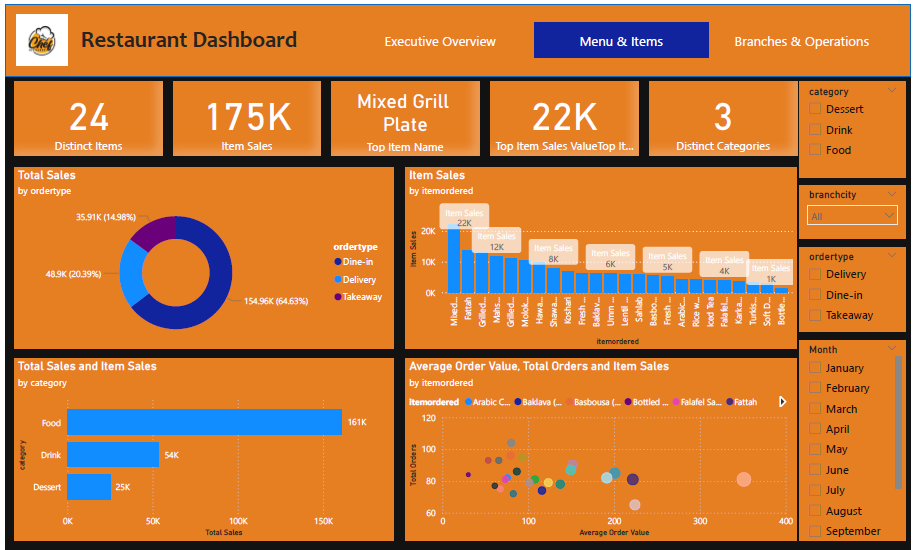

This screenshot's page, from the dashboard's own definition file:
{"tool":"powerbi","page":{"name":"Menu & Items","canvas":[1280,800],"ordinal":1},"visuals":[{"type":"shape","box":[0,0,1280,100.8],"z":0},{"type":"card","fields":{"Values":["egypt_restaurant_clean.Distinct Items"]},"box":[11.8,109.2,210,104.1],"z":0,"group":"g3"},{"type":"group","id":"g1","title":"Group 2","box":[0,9,1249.8,82.3],"z":1000},{"type":"card","fields":{"Values":["egypt_restaurant_clean.Item Sales"]},"box":[237,109.2,209,104.1],"z":1000,"group":"g3"},{"type":"group","id":"g2","title":"Group 1","box":[0,9,446.8,82.3],"z":2000,"group":"g1"},{"type":"image","box":[0,9,100.8,82.3],"z":2000,"group":"g2"},{"type":"card","fields":{"Values":["egypt_restaurant_clean.Distinct Categories"]},"box":[910.5,109.2,209,104.1],"z":2000,"group":"g3"},{"type":"donutChart","fields":{"Category":["egypt_restaurant_clean.ordertype"],"Y":["egypt_restaurant_clean.Total Sales"]},"box":[11.8,230.1,537.5,257],"z":2000},{"type":"textbox","box":[100.8,25,346,50.4],"z":3000,"group":"g2"},{"type":"pageNavigator","box":[492.2,25,757.6,50.4],"z":3000,"group":"g1"},{"type":"group","id":"g3","title":"Group 3","box":[11.8,109.2,1107.7,104.1],"z":3000},{"type":"card","fields":{"Values":["egypt_restaurant_clean.Top Item Name"]},"box":[461.1,109.2,209,104.1],"z":3000,"group":"g3"},{"type":"card","fields":{"Values":["egypt_restaurant_clean.Top Item Sales ValueTop Item Sales"]},"box":[685.3,109.2,210,104.1],"z":4000,"group":"g3"},{"type":"lineStackedColumnComboChart","fields":{"Category":["egypt_restaurant_clean.itemordered"],"Y":["egypt_restaurant_clean.Item Sales"]},"box":[566.1,230.1,552.7,257],"z":4000},{"type":"barChart","fields":{"Category":["egypt_restaurant_clean.category"],"Y":["egypt_restaurant_clean.Total Sales"]},"box":[11.8,500.6,537.5,257],"z":5000},{"type":"scatterChart","fields":{"Size":["egypt_restaurant_clean.Item Sales"],"Series":["egypt_restaurant_clean.itemordered"],"X":["egypt_restaurant_clean.Average Order Value"],"Y":["egypt_restaurant_clean.Total Orders"]},"box":[566.1,500.6,552.7,257],"z":6000},{"type":"slicer","fields":{"Values":["egypt_restaurant_clean.category"]},"box":[1123.8,109.2,149.5,134.4],"z":7000},{"type":"slicer","fields":{"Values":["egypt_restaurant_clean.branchcity"]},"box":[1123.8,256.4,149.5,73.9],"z":8000},{"type":"slicer","fields":{"Values":["egypt_restaurant_clean.ordertype"]},"box":[1123.8,343.2,149.5,119.3],"z":9000},{"type":"slicer","fields":{"Values":["egypt_restaurant_clean.orderdate.Variation.Date Hierarchy.Month"]},"box":[1123.8,475.4,149.5,282.2],"z":10000}]}

Visuals, with their boxes on the page's 1280x800 design canvas (x1, y1, x2, y2). These are canvas units, not pixel positions in the 915x550 screenshot, which may show the page scaled, cropped or inside an application window:
shape: x1=0, y1=0, x2=1280, y2=101
card - egypt_restaurant_clean.Distinct Items: x1=12, y1=109, x2=222, y2=213
"Group 2" group: x1=0, y1=9, x2=1250, y2=91
card - egypt_restaurant_clean.Item Sales: x1=237, y1=109, x2=446, y2=213
"Group 1" group: x1=0, y1=9, x2=447, y2=91
image: x1=0, y1=9, x2=101, y2=91
card - egypt_restaurant_clean.Distinct Categories: x1=910, y1=109, x2=1120, y2=213
donutChart - egypt_restaurant_clean.ordertype x egypt_restaurant_clean.Total Sales: x1=12, y1=230, x2=549, y2=487
textbox: x1=101, y1=25, x2=447, y2=75
pageNavigator: x1=492, y1=25, x2=1250, y2=75
"Group 3" group: x1=12, y1=109, x2=1120, y2=213
card - egypt_restaurant_clean.Top Item Name: x1=461, y1=109, x2=670, y2=213
card - egypt_restaurant_clean.Top Item Sales ValueTop Item Sales: x1=685, y1=109, x2=895, y2=213
lineStackedColumnComboChart - egypt_restaurant_clean.itemordered x egypt_restaurant_clean.Item Sales: x1=566, y1=230, x2=1119, y2=487
barChart - egypt_restaurant_clean.category x egypt_restaurant_clean.Total Sales: x1=12, y1=501, x2=549, y2=758
scatterChart - egypt_restaurant_clean.Item Sales x egypt_restaurant_clean.itemordered: x1=566, y1=501, x2=1119, y2=758
slicer - egypt_restaurant_clean.category: x1=1124, y1=109, x2=1273, y2=244
slicer - egypt_restaurant_clean.branchcity: x1=1124, y1=256, x2=1273, y2=330
slicer - egypt_restaurant_clean.ordertype: x1=1124, y1=343, x2=1273, y2=462
slicer - egypt_restaurant_clean.orderdate.Variation.Date Hierarchy.Month: x1=1124, y1=475, x2=1273, y2=758
